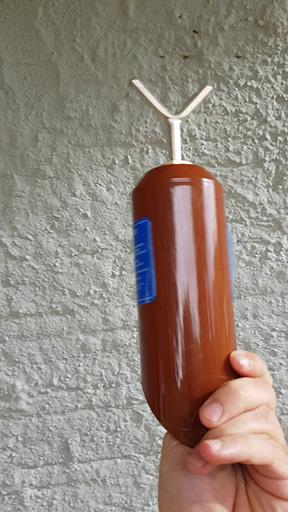Detector_Tensao_Contato: (124, 77, 242, 449)
